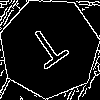T: (24, 23, 76, 78)
